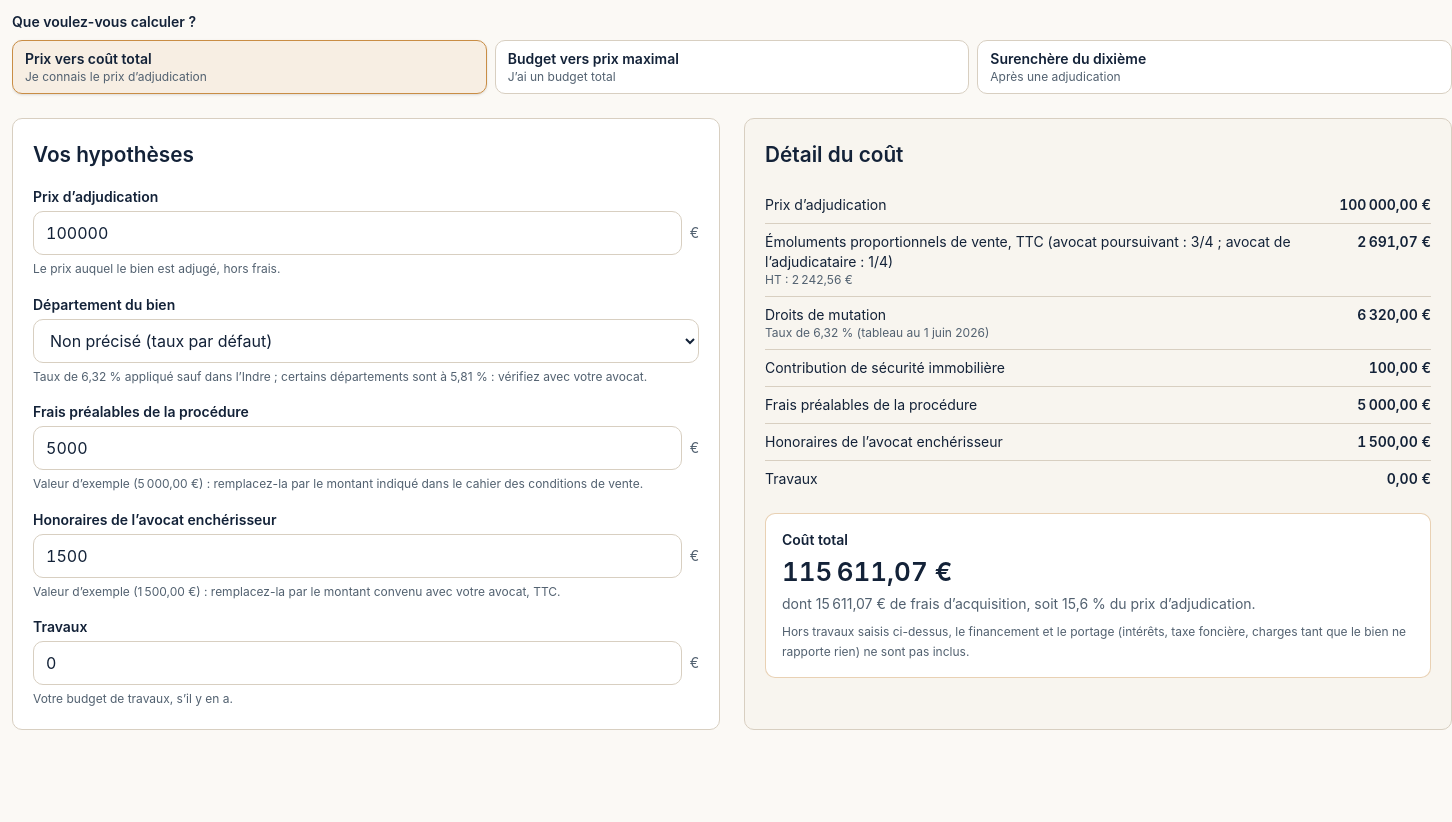
Test case: surenchère du dixième › rappelle le délai tel que l'article le formule, avec un lien vers l'article
Click the radio button labelled "Surenchère du dixième Après une adjudication" at (1068,58), box [977,40,1451,94]
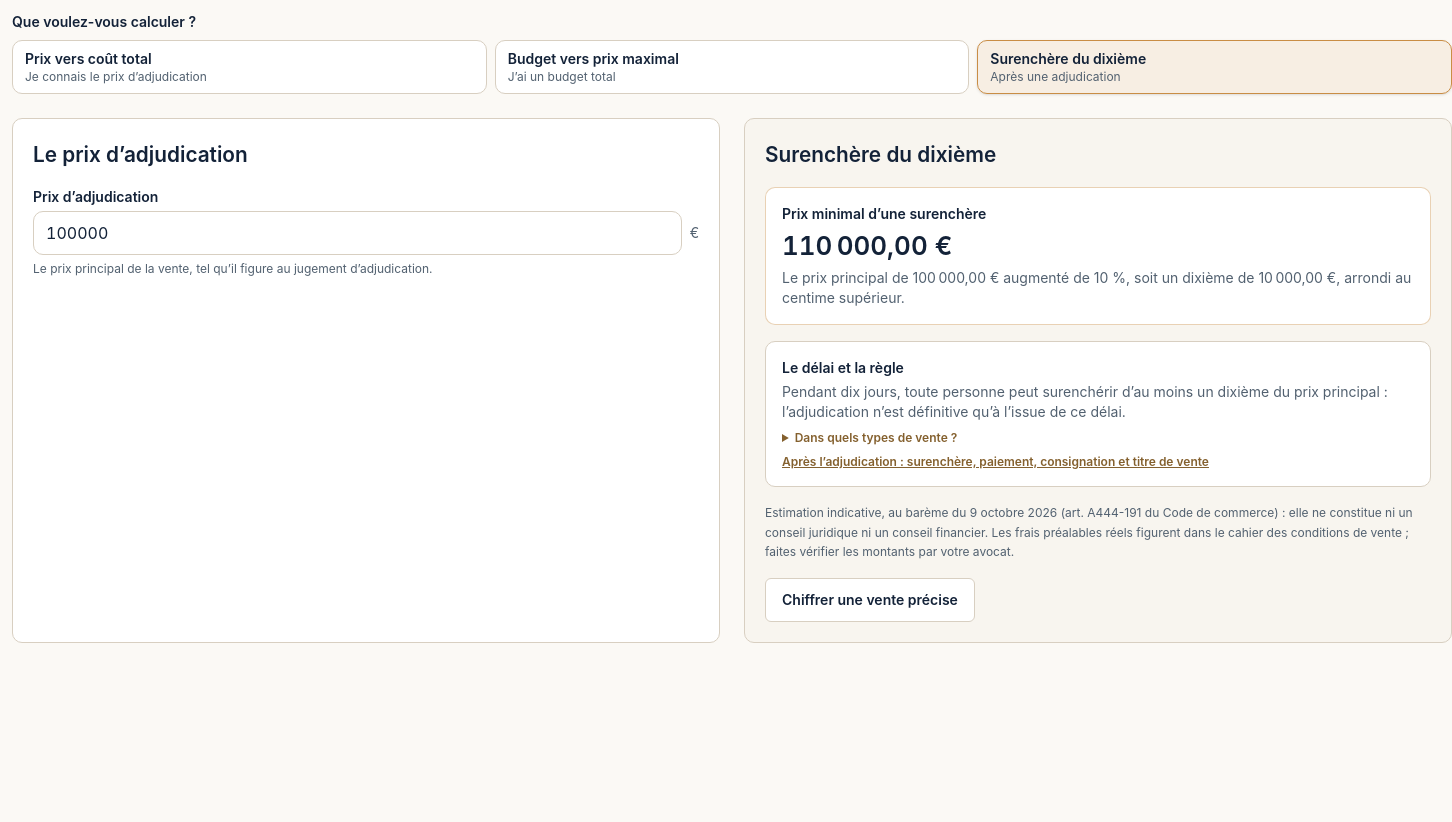
Expected: the element "Surenchère du dixième" shows "Pendant dix jours, toute personne peut surenchérir d’au moins un dixième du prix principal : l’adjudication n’est définitive qu’à l’issue de ce délai.", [782,383,1388,420]
Expected: the element "Surenchère du dixième" shows "Pendant dix jours", [782,383,1388,420]
Expected: the heading "Dans quels types de vente ?" is shown, [795,430,957,445]
